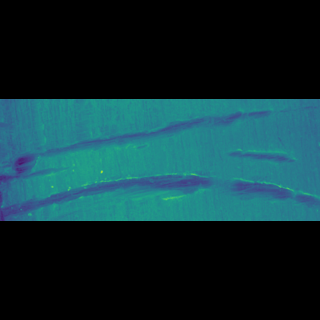Loch: (1, 136, 318, 171), (1, 163, 320, 182), (221, 154, 298, 163)
